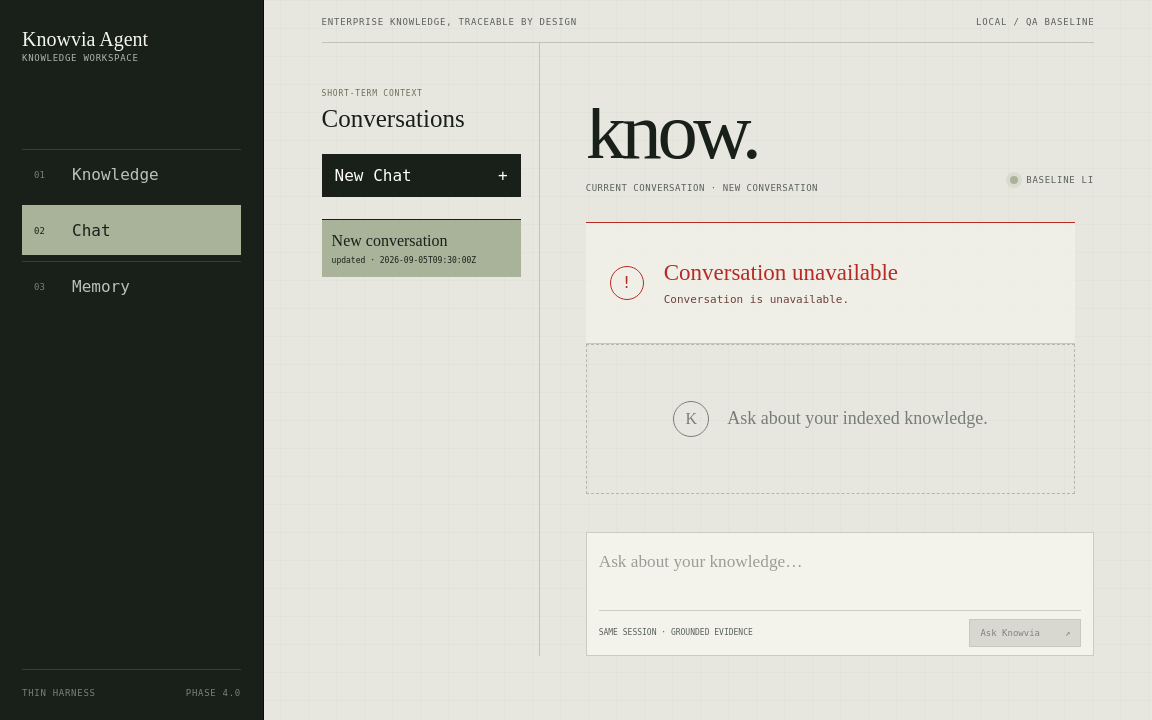
Knowvia frontend harness › shows saved-memory disclosure without adding a document citation
This screenshot has width=1152, height=720.
(page scrolled)
Check: the text "Ask about your indexed knowledge." is shown, box [727, 408, 988, 430]
Type "我們 production 最後決定用什麼？" into the text box named "Question".
click(840, 577); type("我們 production 最後決定用什麼？")  # box [599, 543, 1081, 611]
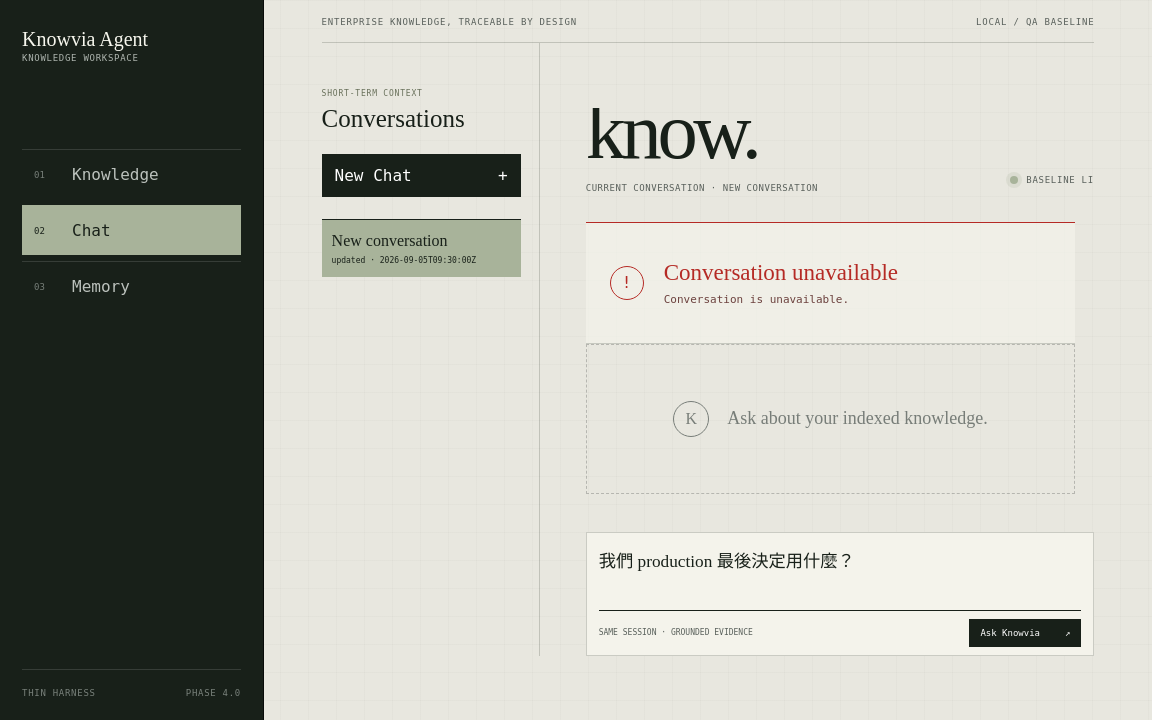
Click the button "Ask Knowvia ↗".
click(1025, 633)  # box [969, 619, 1081, 647]
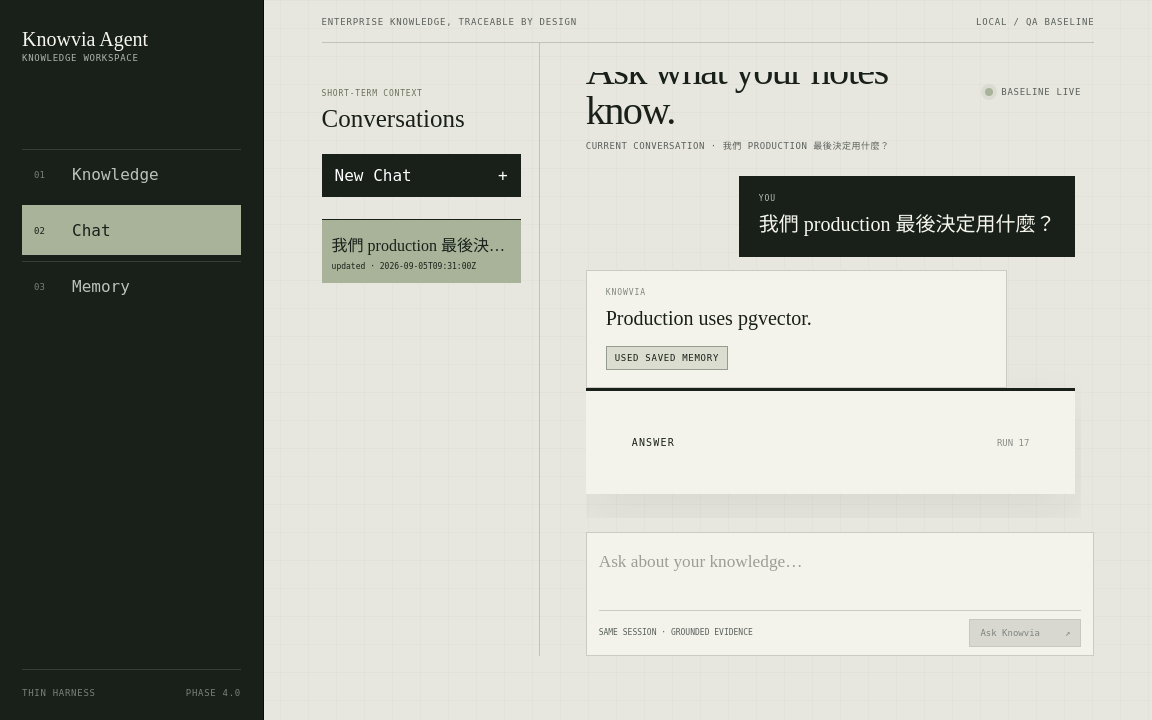
Check: the text "Used saved memory" is shown, box [606, 346, 728, 370]
